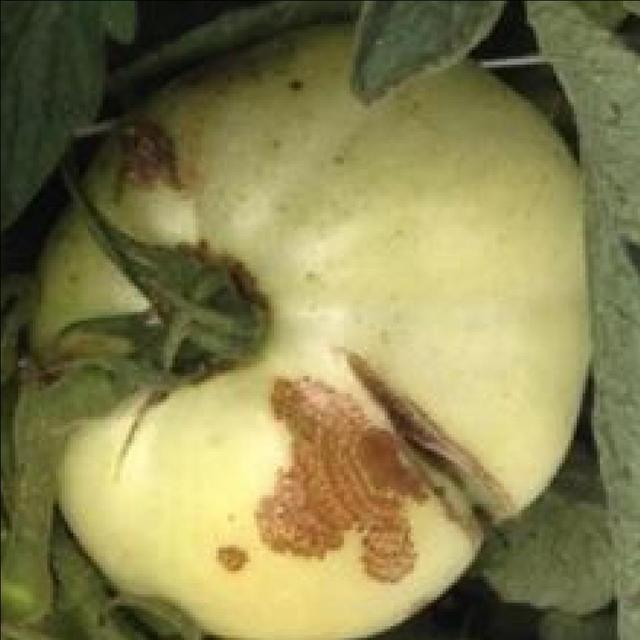Spotted wilt Virus Fruit: (19, 12, 394, 427)
